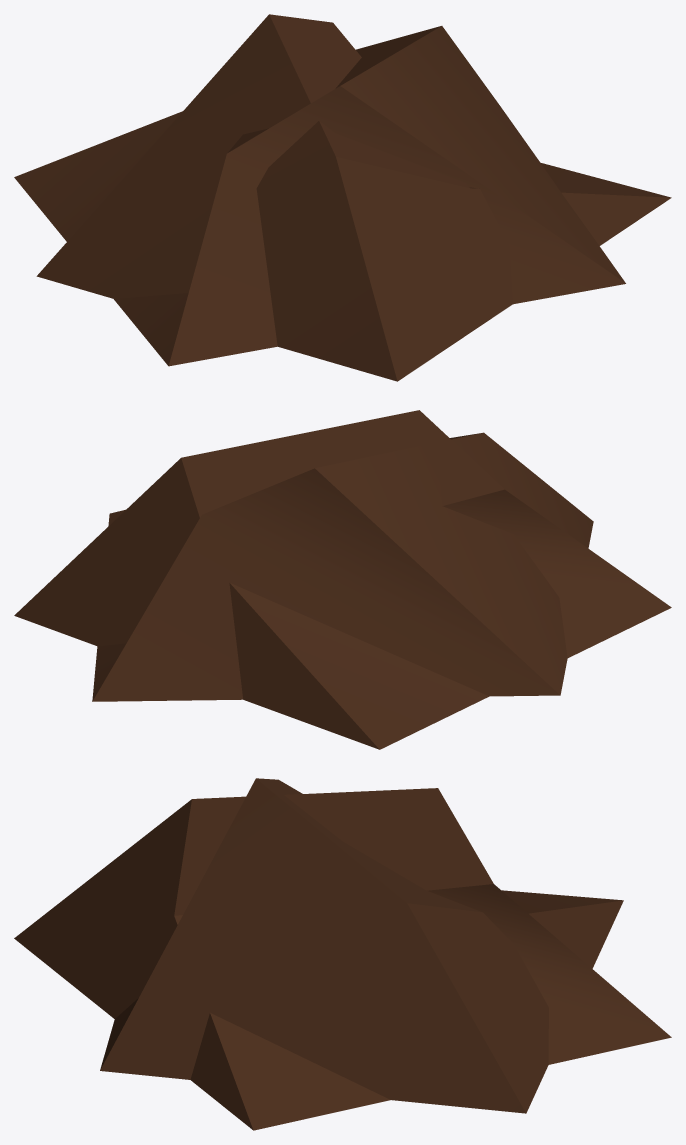
The model's file is ShardBase03.fbx.
3 views of the same model, one above another, from view 1: azimuth 30°, elevation 25°; view 2: azimuth 150°, elevation 25°; view 3: azimuth 270°, elevation 25° (orthographic). The views are drawn at different scales.
Visible parts, largest first — view 1: polySurface24; view 2: polySurface24; view 3: polySurface24.
Boxes of the visible parts, box(x1,y1,x2,y2) form: polySurface24: box(14, 14, 671, 381); polySurface24: box(14, 410, 671, 749); polySurface24: box(14, 778, 671, 1130).
Size of the model in its own units: 11 by 3.61 by 11.26.
